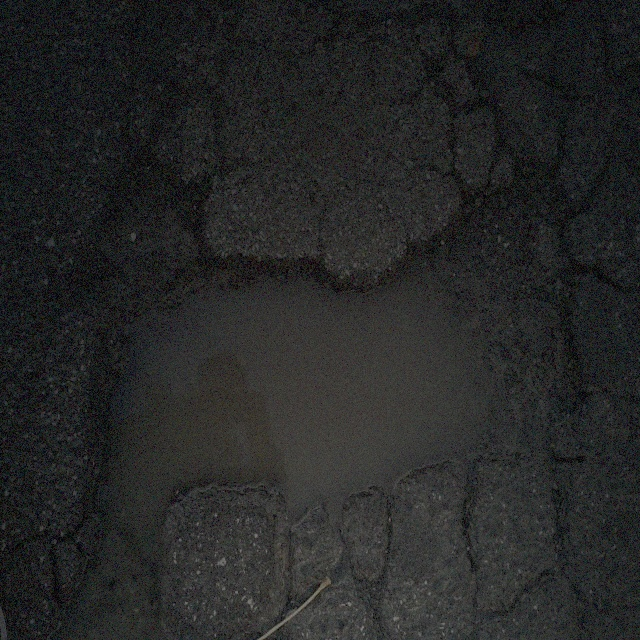pothole: (85, 155, 602, 542)
